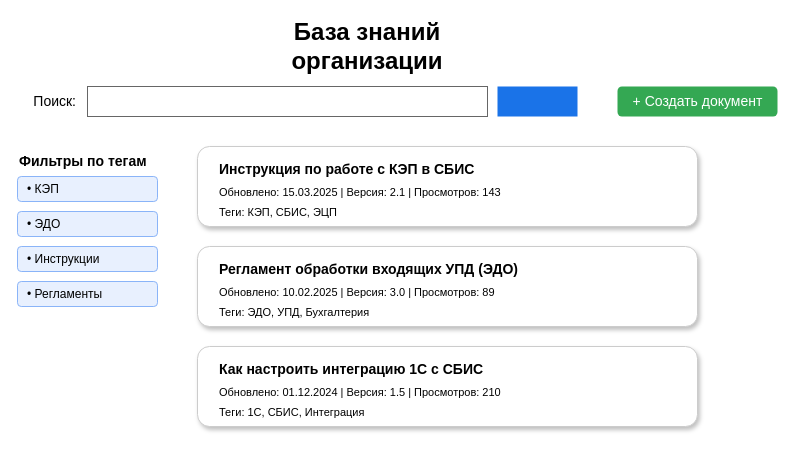
Some shapes in this 795 by 451 pixel diagram are drawn without their labels. Here are the shapes that lost their labels. From the top down, the centre of each, then its label:
(287,101): введите ключевое слово или тег...
(537,101): Найти
